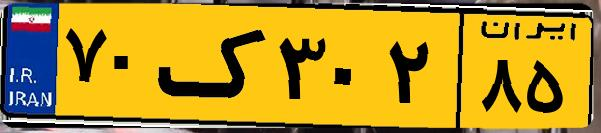0: (330, 28, 385, 110), (110, 28, 158, 98)
2: (385, 28, 445, 110)
3: (270, 28, 330, 110)
5: (525, 38, 570, 115)
7: (57, 26, 110, 100)
8: (475, 38, 525, 113)
ک: (158, 12, 270, 120)
